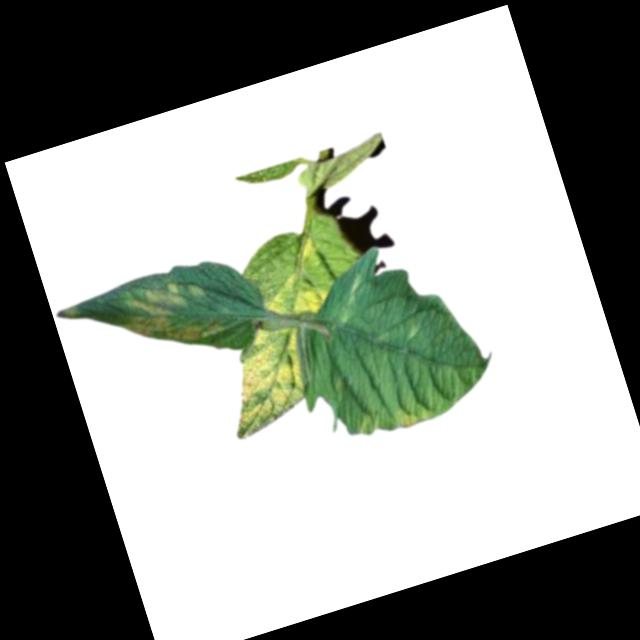Leaf_Mold: (205, 316, 322, 441), (111, 268, 230, 365), (253, 263, 335, 331), (390, 403, 434, 433), (292, 229, 320, 263)
